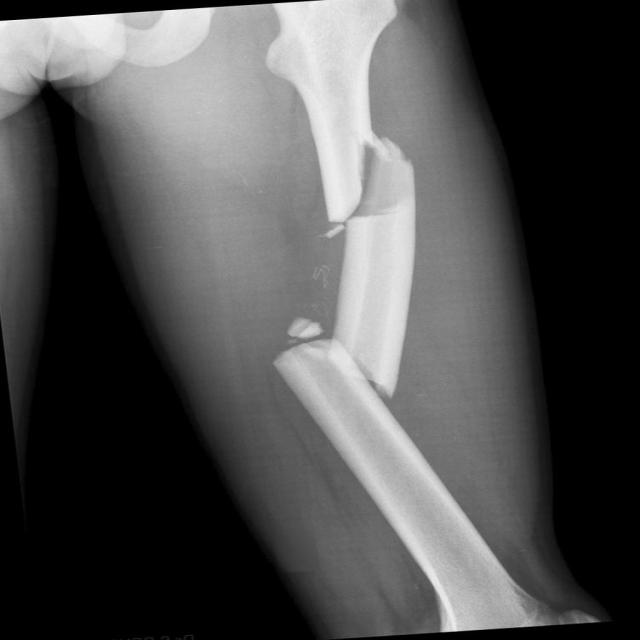Segmental: (242, 124, 489, 422)
